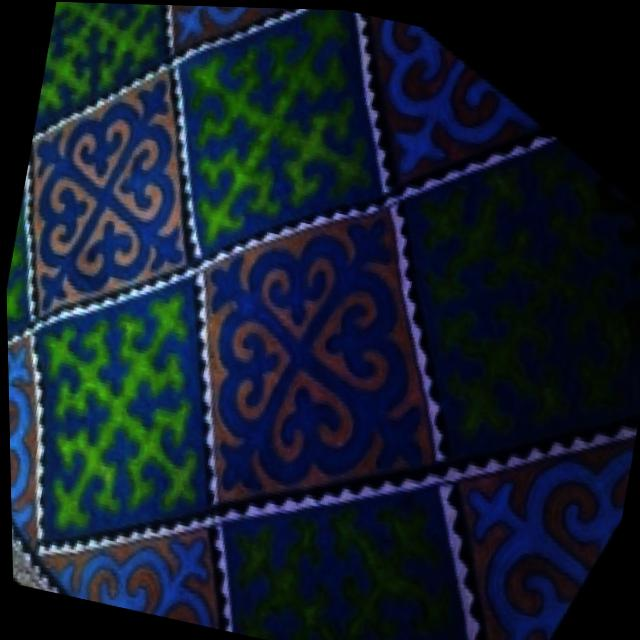Unity: (204, 206, 430, 501), (37, 70, 191, 314), (457, 433, 634, 640), (376, 16, 551, 187), (54, 538, 223, 627), (8, 335, 30, 555)
